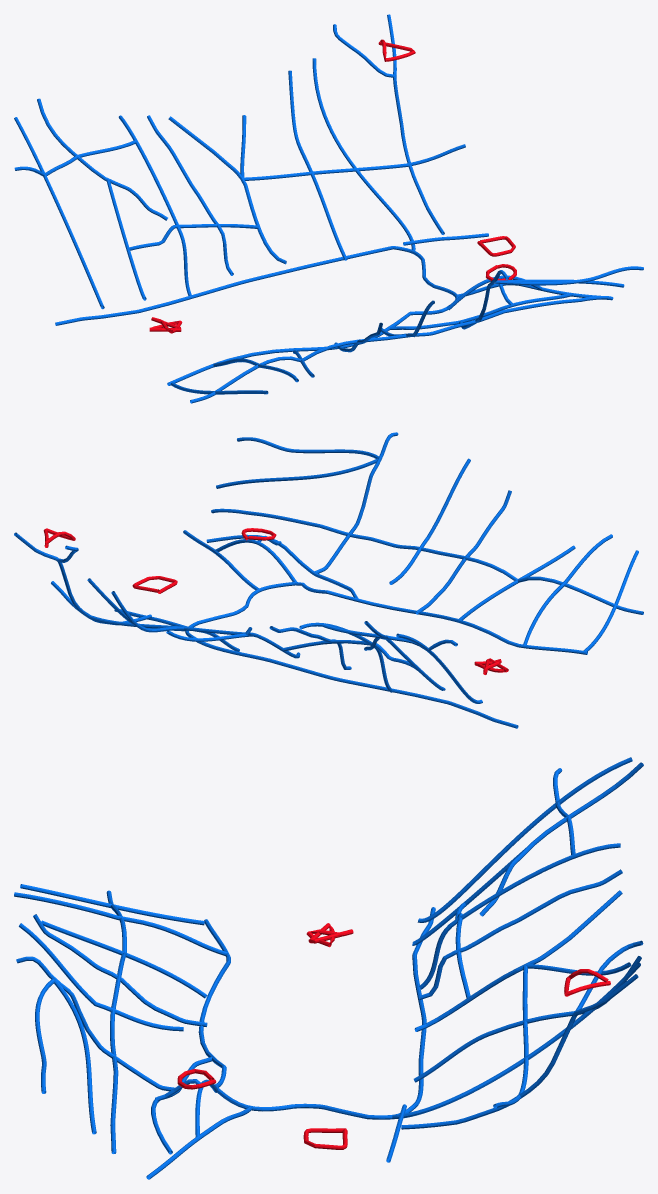
File: 3d_Tutorial_example.fbx
3 renders of one model, top to bottom at view 1: azimuth 30°, elevation 25°; view 2: azimuth 150°, elevation 25°; view 3: azimuth 270°, elevation 25°, orthographic. The views are drawn at different scales.
Parts seen in each view (by area): view 1: Layer 01; view 2: Layer 01; view 3: Layer 01.
Boxes of the visible parts, x1,y1,x2,y2 form: Layer 01: (14,14,643,403); Layer 01: (14,432,643,728); Layer 01: (14,757,643,1179).
Bounding box in the file's own units: 0.4088 × 0.1372 × 0.4019.
